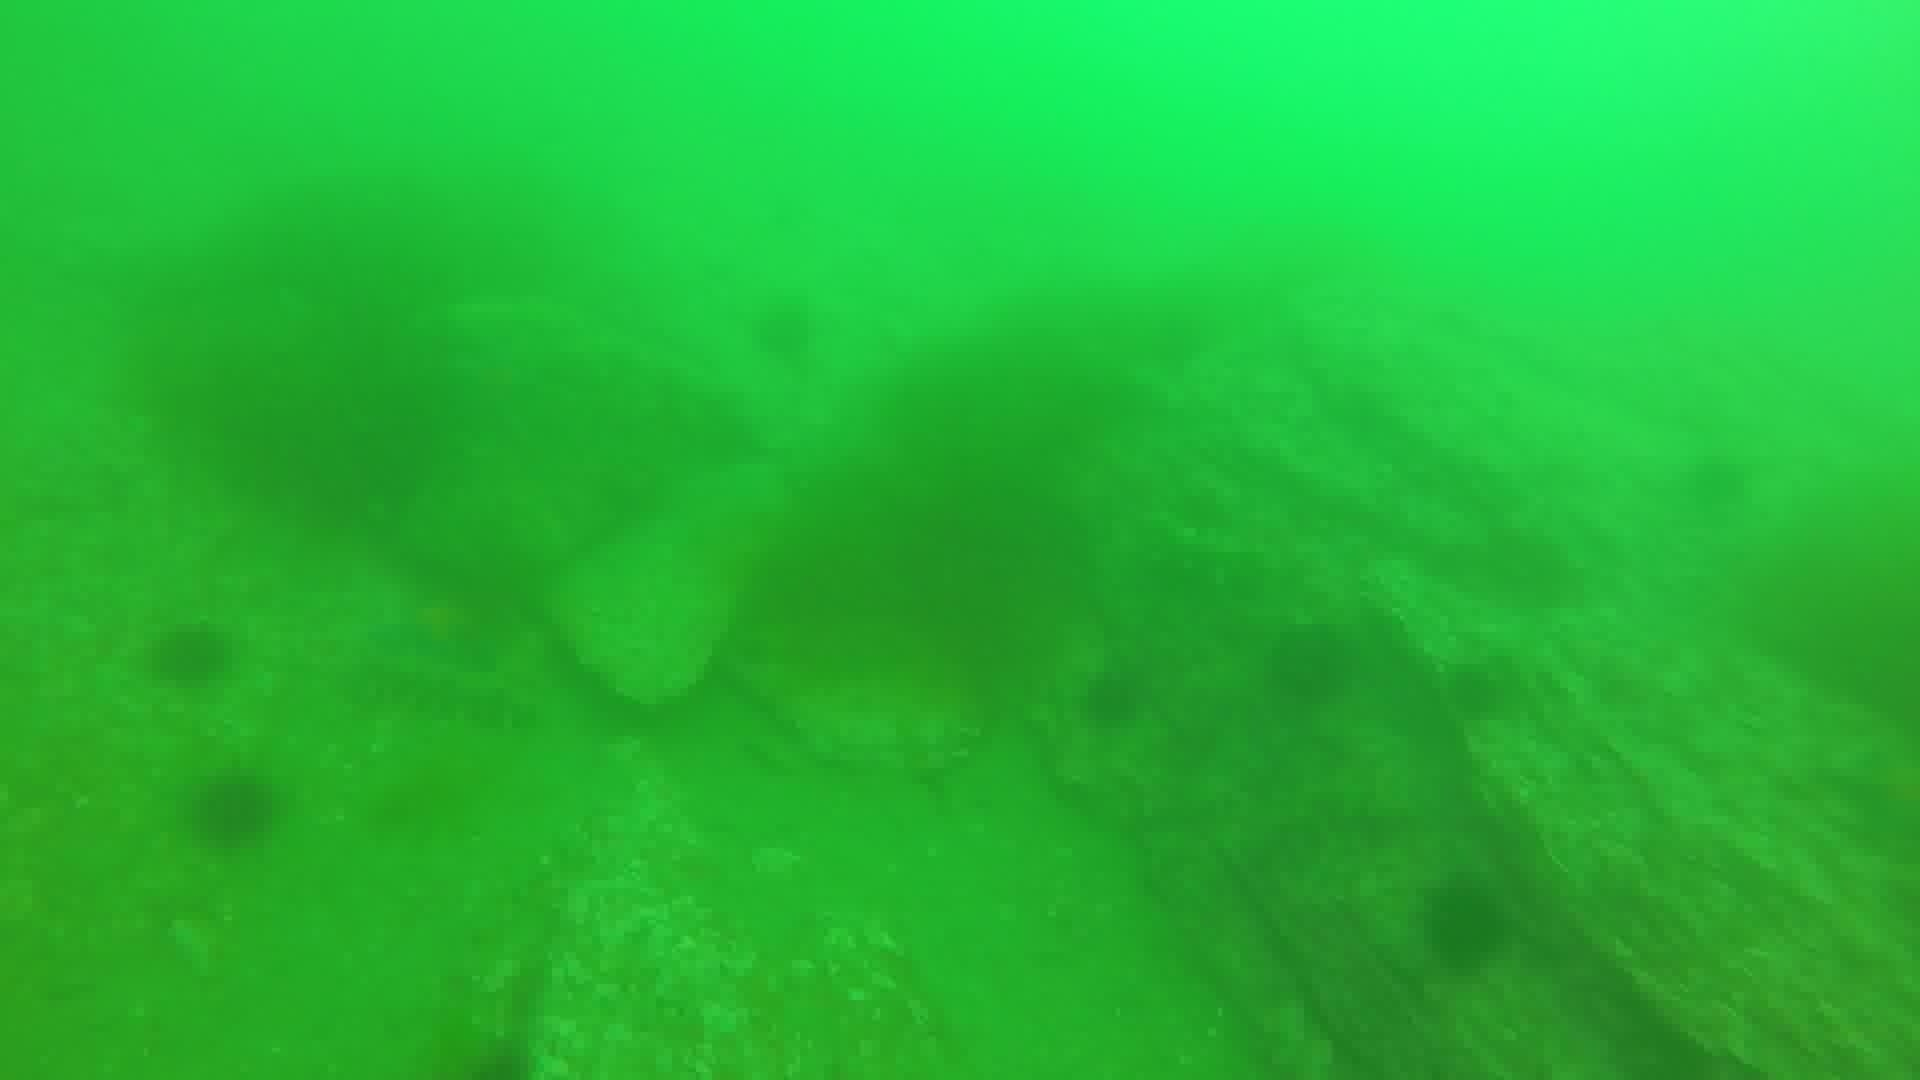echinus: (1414, 872, 1514, 977), (1261, 615, 1360, 708), (185, 765, 284, 851), (144, 616, 237, 692), (746, 293, 822, 365), (1439, 655, 1513, 727), (1073, 665, 1149, 735)
holothurian: (347, 646, 543, 735)
starfish: (368, 585, 509, 674)
